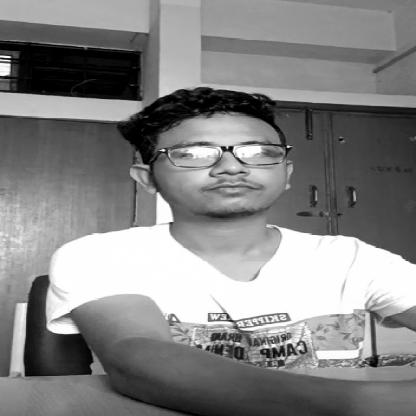Normal: (139, 93, 307, 218)
